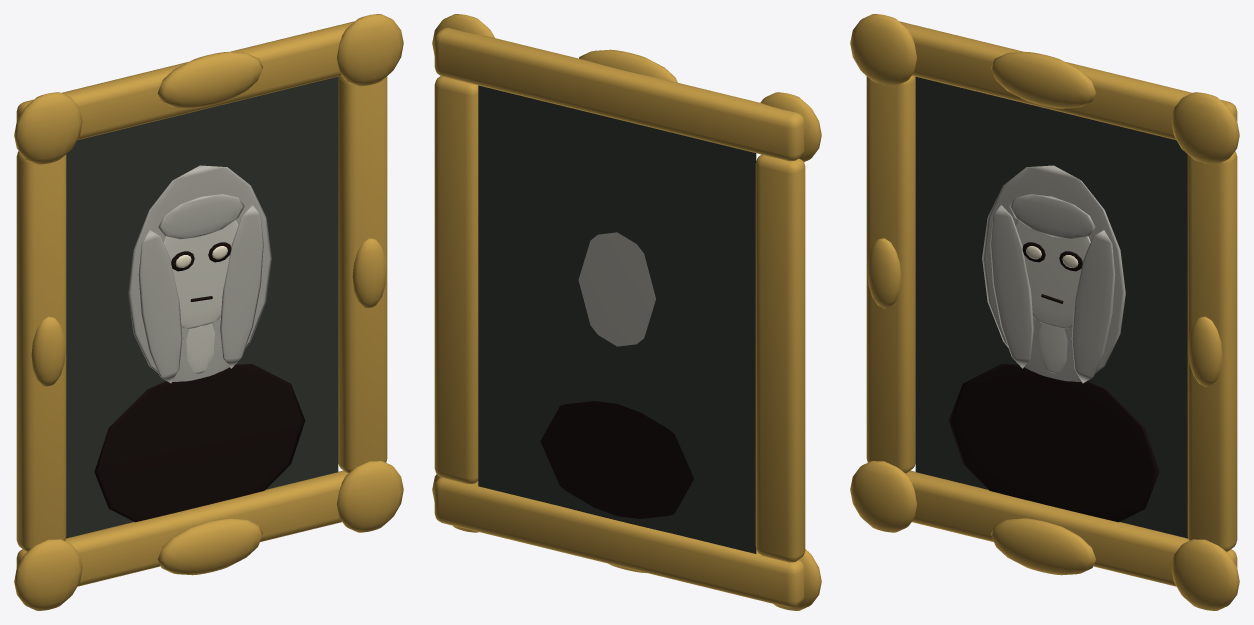
The model's file is PR_Portrait.fbx.
3 views of the same model, side by side, from view 1: azimuth 30°, elevation 25°; view 2: azimuth 150°, elevation 25°; view 3: azimuth 330°, elevation 25° (orthographic).
Visible parts, largest first — view 1: PR_Portrait_Gold, PR_Portrait_CanvasDark, PR_Portrait_Line, PR_Portrait_PaleHair, PR_Portrait_PaleSkin; view 2: PR_Portrait_CanvasDark, PR_Portrait_Gold, PR_Portrait_Line, PR_Portrait_PaleHair; view 3: PR_Portrait_Gold, PR_Portrait_CanvasDark, PR_Portrait_Line, PR_Portrait_PaleHair, PR_Portrait_PaleSkin.
Boxes of the visible parts, bbox=[...] form: PR_Portrait_Gold: bbox=[14, 14, 403, 610]; PR_Portrait_CanvasDark: bbox=[66, 77, 338, 538]; PR_Portrait_Line: bbox=[94, 242, 305, 522]; PR_Portrait_PaleHair: bbox=[128, 165, 271, 383]; PR_Portrait_PaleSkin: bbox=[163, 220, 238, 373]; PR_Portrait_CanvasDark: bbox=[478, 85, 756, 553]; PR_Portrait_Gold: bbox=[432, 14, 821, 610]; PR_Portrait_Line: bbox=[540, 401, 693, 531]; PR_Portrait_PaleHair: bbox=[578, 232, 655, 346]; PR_Portrait_Gold: bbox=[850, 14, 1239, 610]; PR_Portrait_CanvasDark: bbox=[915, 77, 1187, 538]; PR_Portrait_Line: bbox=[948, 242, 1159, 522]; PR_Portrait_PaleHair: bbox=[982, 165, 1125, 383]; PR_Portrait_PaleSkin: bbox=[1015, 220, 1090, 373].
Bounding box in the file's own units: 0.8065 × 1.03 × 0.08.
